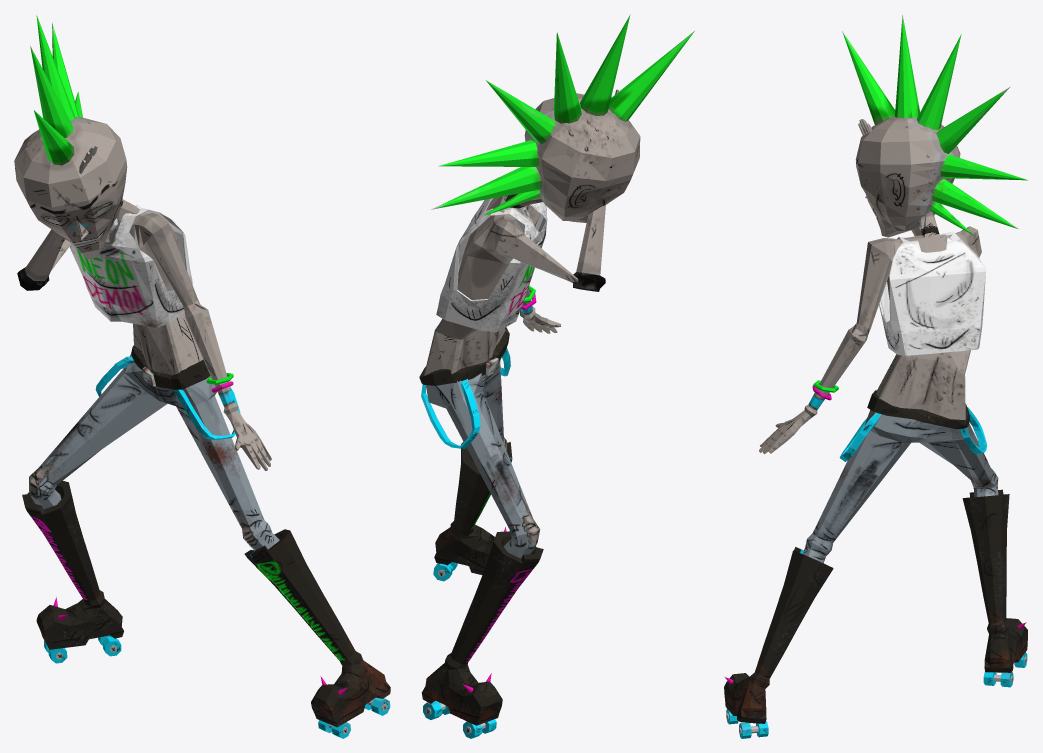
Rendered from punkAnimation_000041.obj.
The picture shows the model from 3 angles, left to right: view 1: azimuth 30°, elevation 25°; view 2: azimuth 150°, elevation 25°; view 3: azimuth 270°, elevation 25°; orthographic projection. The views are drawn at different scales.
Parts seen in each view (by area): view 1: Cube.004_Cube.003; view 2: Cube.004_Cube.003; view 3: Cube.004_Cube.003.
Part boxes in pixels (bbox=[...]): Cube.004_Cube.003: bbox=[14, 15, 390, 738]; Cube.004_Cube.003: bbox=[419, 14, 694, 738]; Cube.004_Cube.003: bbox=[724, 15, 1027, 738].
Bounding box in the file's own units: 3.14 × 6.72 × 3.02.
